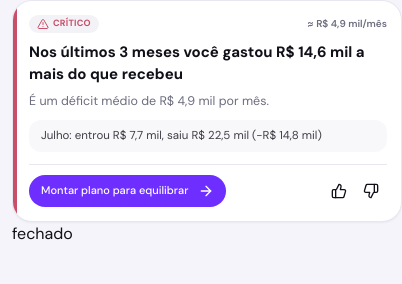
card executivo › ação 'perguntar' abre o assessor com a pergunta pronta e registra a ação
Click the button "Montar plano para equilibrar": [128, 190] box [29,174,226,206]
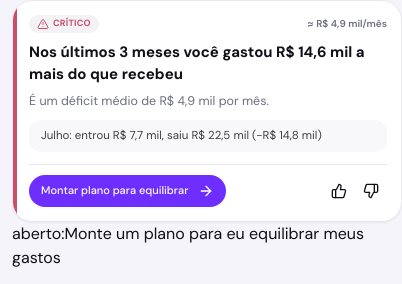
Now the text with test id "probe" reads "aberto:Monte um plano para eu equilibrar meus gastos", box [12,222,364,268]
